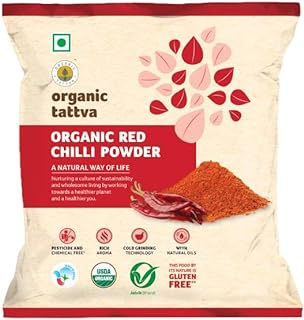Chilli Powder: (1, 3, 304, 306)
